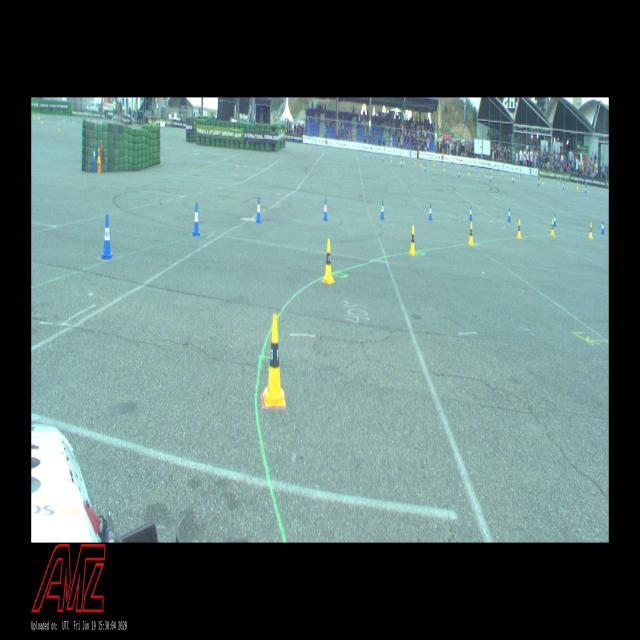blue_cone: (101, 214, 112, 259), (192, 202, 200, 236), (256, 197, 262, 222), (323, 198, 328, 221), (380, 200, 384, 219), (507, 207, 511, 222), (601, 220, 605, 234), (429, 203, 432, 221), (469, 204, 472, 220), (554, 214, 556, 226), (458, 169, 460, 178), (382, 154, 384, 162), (512, 175, 514, 183), (401, 158, 402, 168), (490, 172, 491, 182), (538, 177, 539, 186), (425, 164, 426, 172), (370, 152, 371, 160), (462, 161, 463, 168), (563, 182, 564, 189), (425, 157, 426, 162)
yellow_cone: (263, 315, 285, 406), (323, 239, 333, 283), (410, 225, 415, 255), (469, 222, 473, 245), (517, 219, 521, 239), (550, 219, 554, 236), (589, 222, 593, 238), (58, 122, 60, 132), (443, 163, 445, 171), (557, 178, 559, 185), (41, 116, 43, 123), (577, 180, 578, 189), (420, 158, 421, 166), (468, 167, 469, 175), (415, 157, 416, 164), (542, 177, 543, 184), (391, 156, 392, 162), (404, 156, 404, 164), (400, 156, 400, 163)
